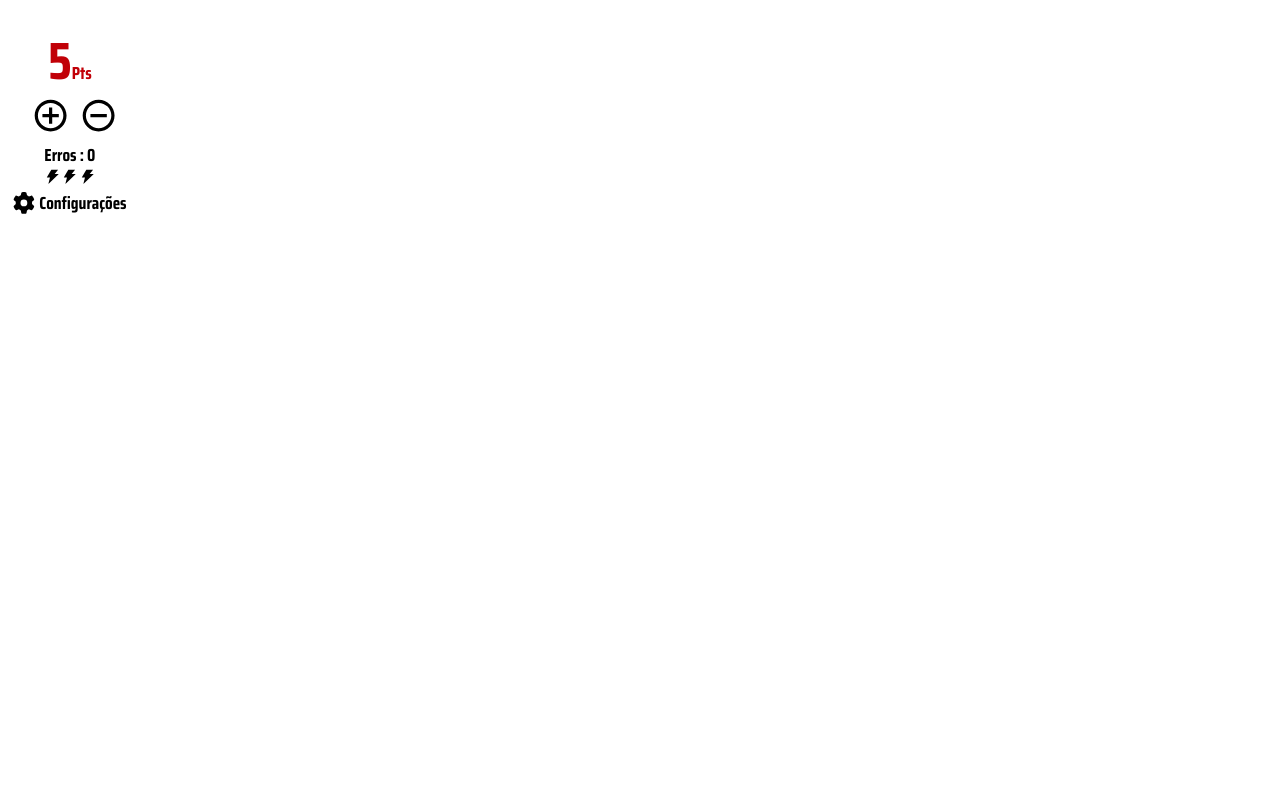
Scenario: CountCard Config › deve exibir texto Muito ruim quando comportamento = 1
This screenshot has width=1280, height=800.
Click the text "Configurações" at (70, 203), box 13,189 -> 127,217
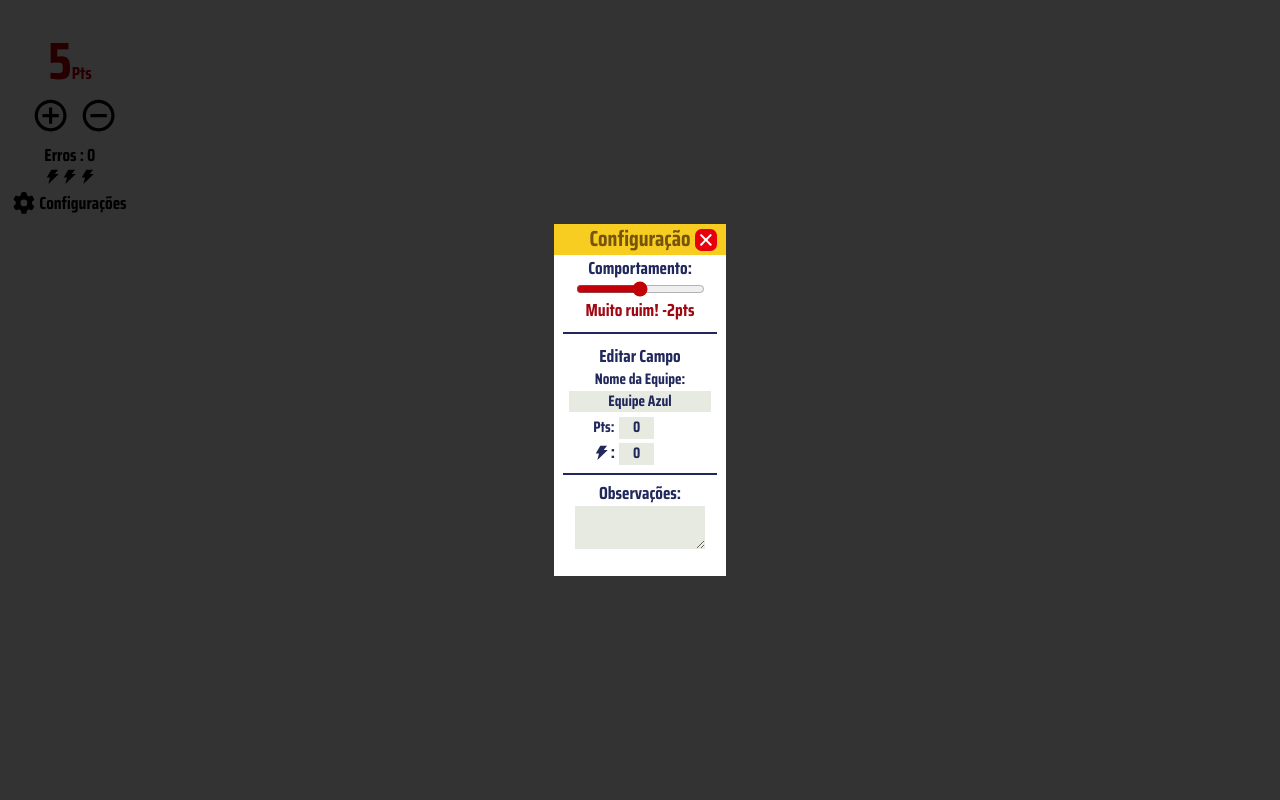
Expected: the text "Muito ruim! -2pts" is shown, 586,297 -> 694,323
